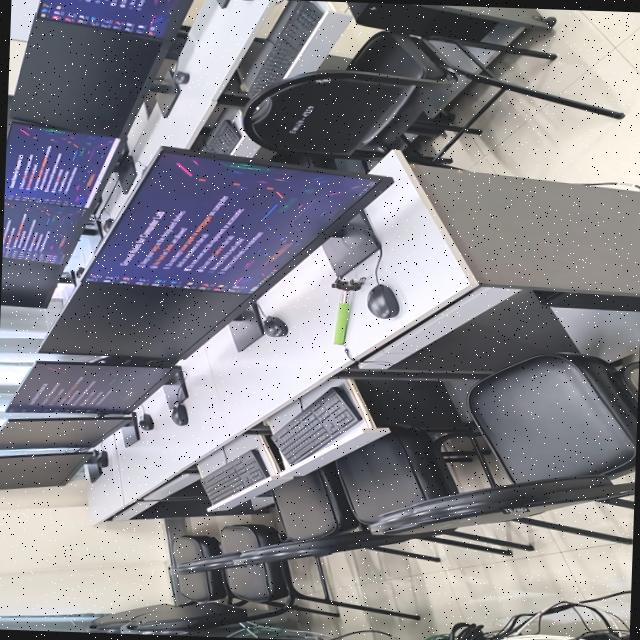Chair: (368, 352, 639, 535), (243, 30, 623, 155), (213, 424, 530, 566), (271, 461, 358, 539), (224, 559, 349, 609), (90, 601, 274, 633), (172, 569, 227, 601), (221, 523, 280, 551), (171, 534, 220, 561)
Cpu: (347, 1, 499, 41)
Keyboard: (248, 0, 322, 94), (271, 386, 360, 464), (200, 448, 269, 502), (204, 119, 241, 153)
Monitor: (83, 147, 391, 293), (10, 17, 169, 138), (40, 280, 252, 358), (4, 120, 119, 207), (8, 362, 187, 413), (36, 0, 190, 37), (2, 198, 87, 263), (0, 416, 129, 448), (0, 452, 91, 488), (0, 257, 62, 307)
Mouse: (366, 283, 399, 317), (263, 315, 287, 336), (171, 402, 187, 425), (138, 412, 153, 429), (172, 70, 189, 83), (95, 449, 107, 466), (102, 217, 113, 230)
Projector: (366, 283, 399, 317)
